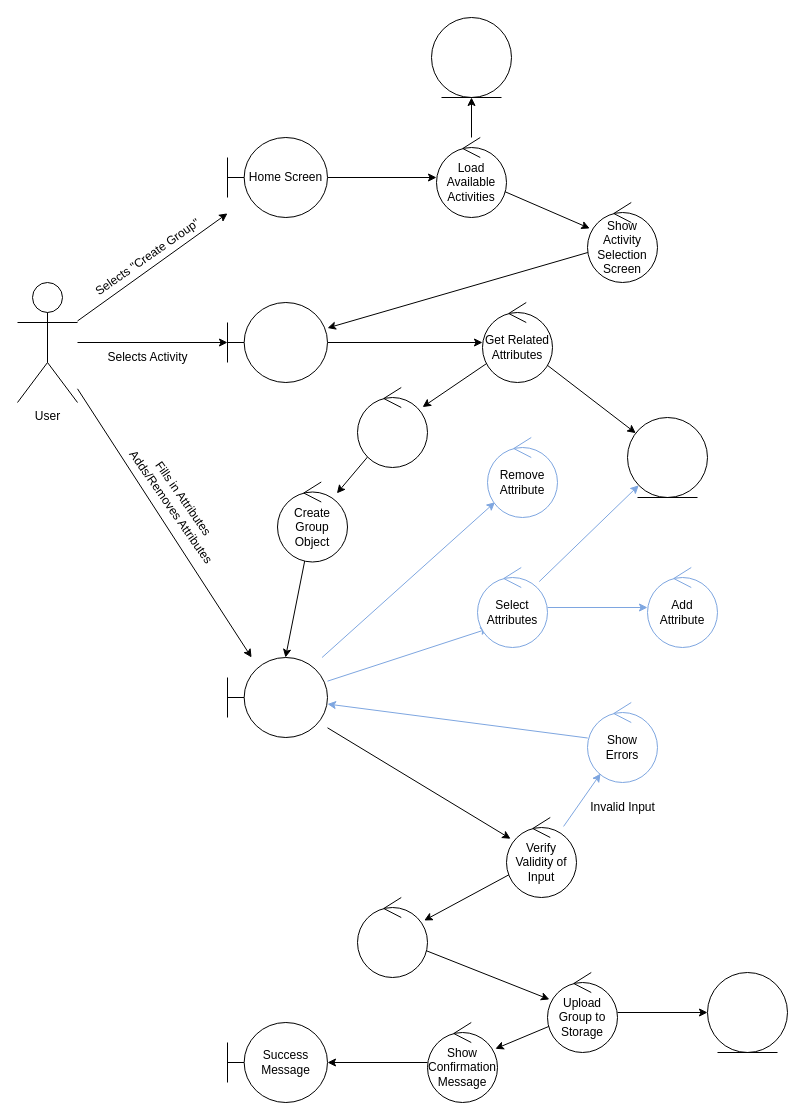
Image size: 805x1120. Some labels were removed from this diagram. Each missing label, with the centre of its shape:
"Activities" belongs at point 471,57.
"Activity Selection Screen" belongs at point 277,342.
"Attribute Fill - in Screen" belongs at point 277,697.
"Attributes" belongs at point 667,457.
"Confirm Group Data" belongs at point 392,937.
"Groups" belongs at point 747,1012.
"Show Attribute Fill - in Screen" belongs at point 392,427.
